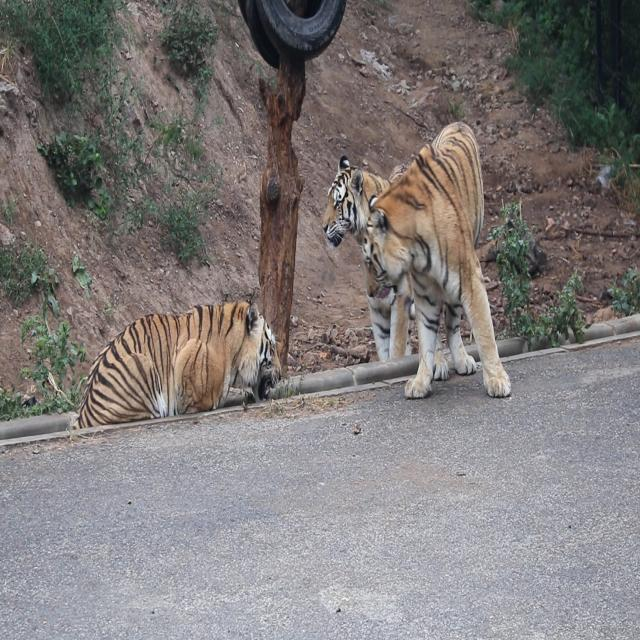Tiger: (366, 93, 546, 481), (64, 287, 282, 437), (319, 150, 416, 370)
